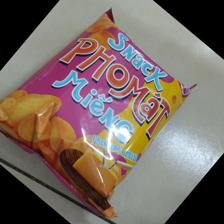Oishi_phomat: (3, 5, 198, 223)
